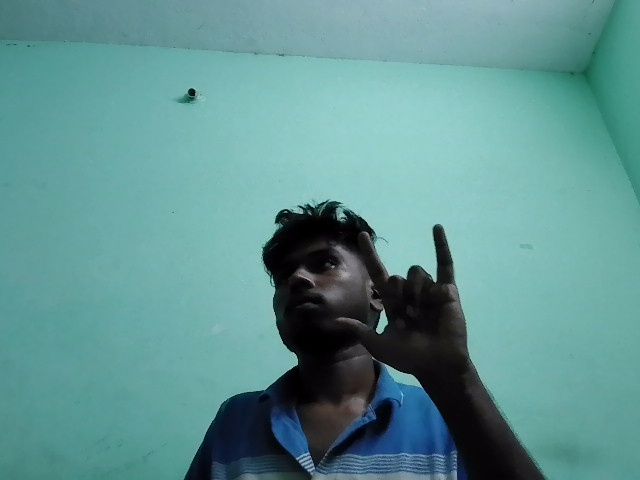I Love You: (321, 210, 519, 397)
